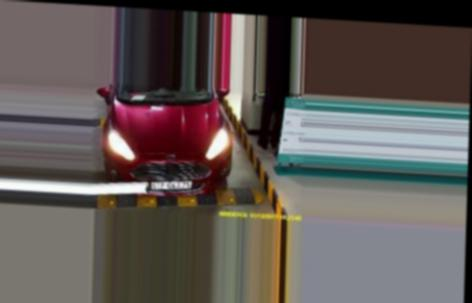License_Plate: (149, 177, 198, 193)
